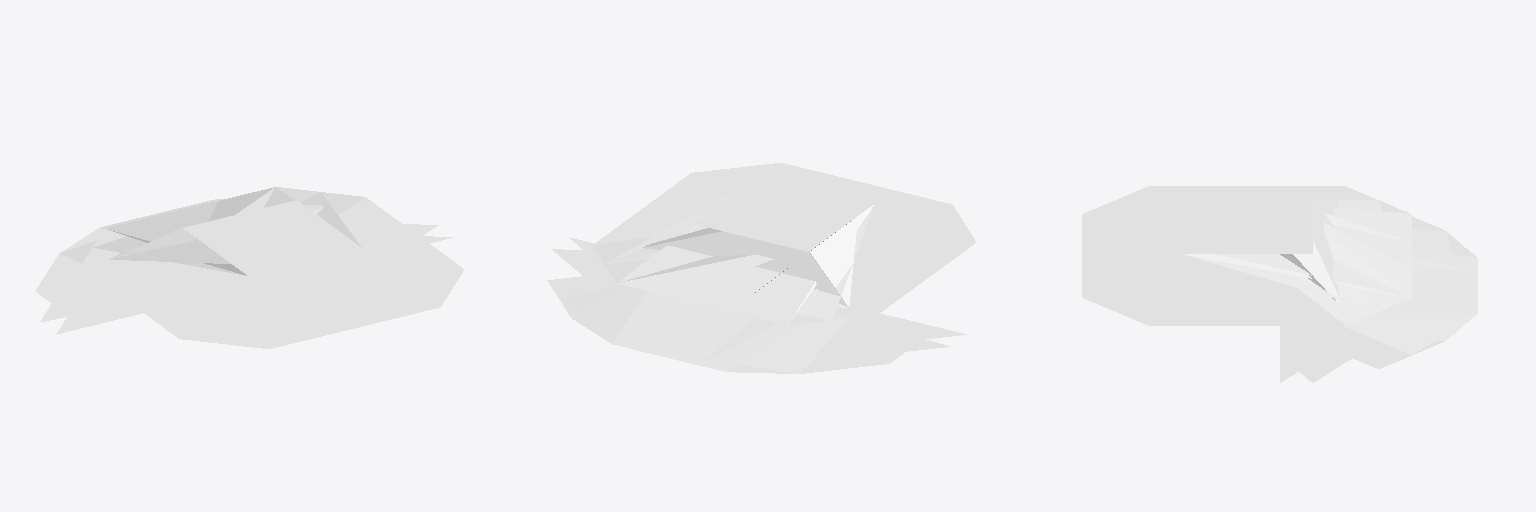
File: EyeBot.obj
The picture shows the model from 3 angles: view 1: azimuth 30°, elevation 25°; view 2: azimuth 150°, elevation 25°; view 3: azimuth 270°, elevation 25°; orthographic projection.
Size of the model in its own units: 14 by 2 by 12.